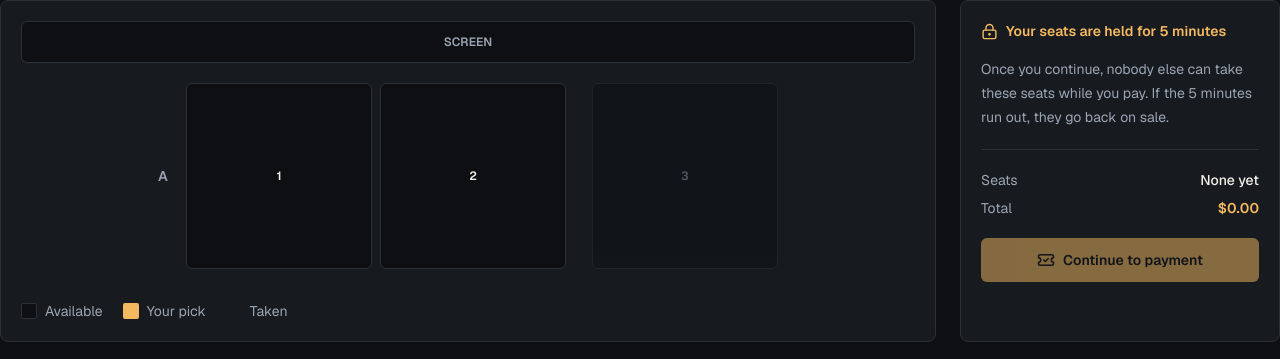
Test case: SeatPicker › totals the chosen seats and names them
This screenshot has width=1280, height=359.
Click the button named "Seat A1, $15.00" at {"x": 279, "y": 176}, box [186,83,372,269]
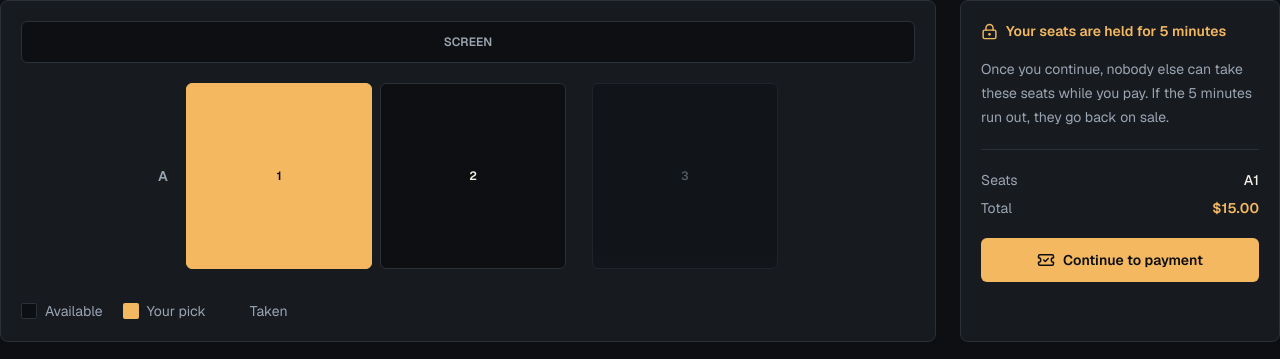
Click the button named "Seat A2, $19.00" at {"x": 473, "y": 176}, box [380,83,566,269]
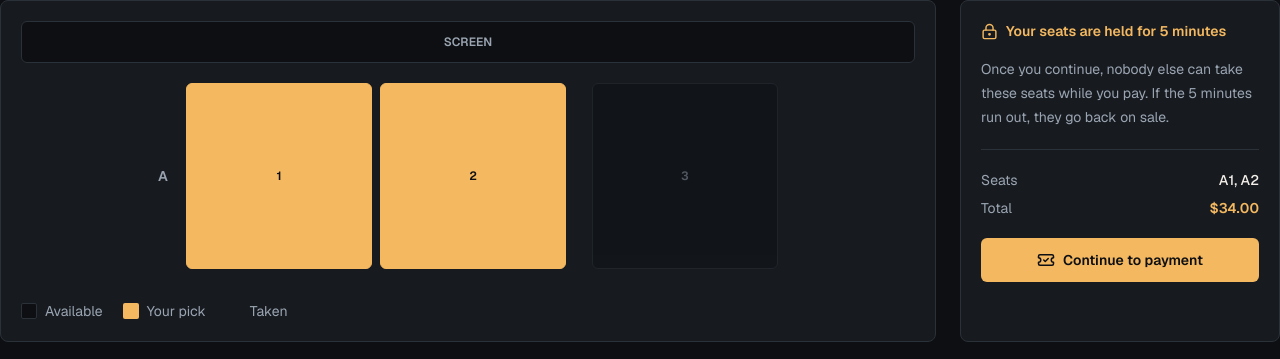
Now the text "$34.00" is shown, box [1210,198,1259,218]
Now the text "A1, A2" is shown, box [1219,170,1259,190]
